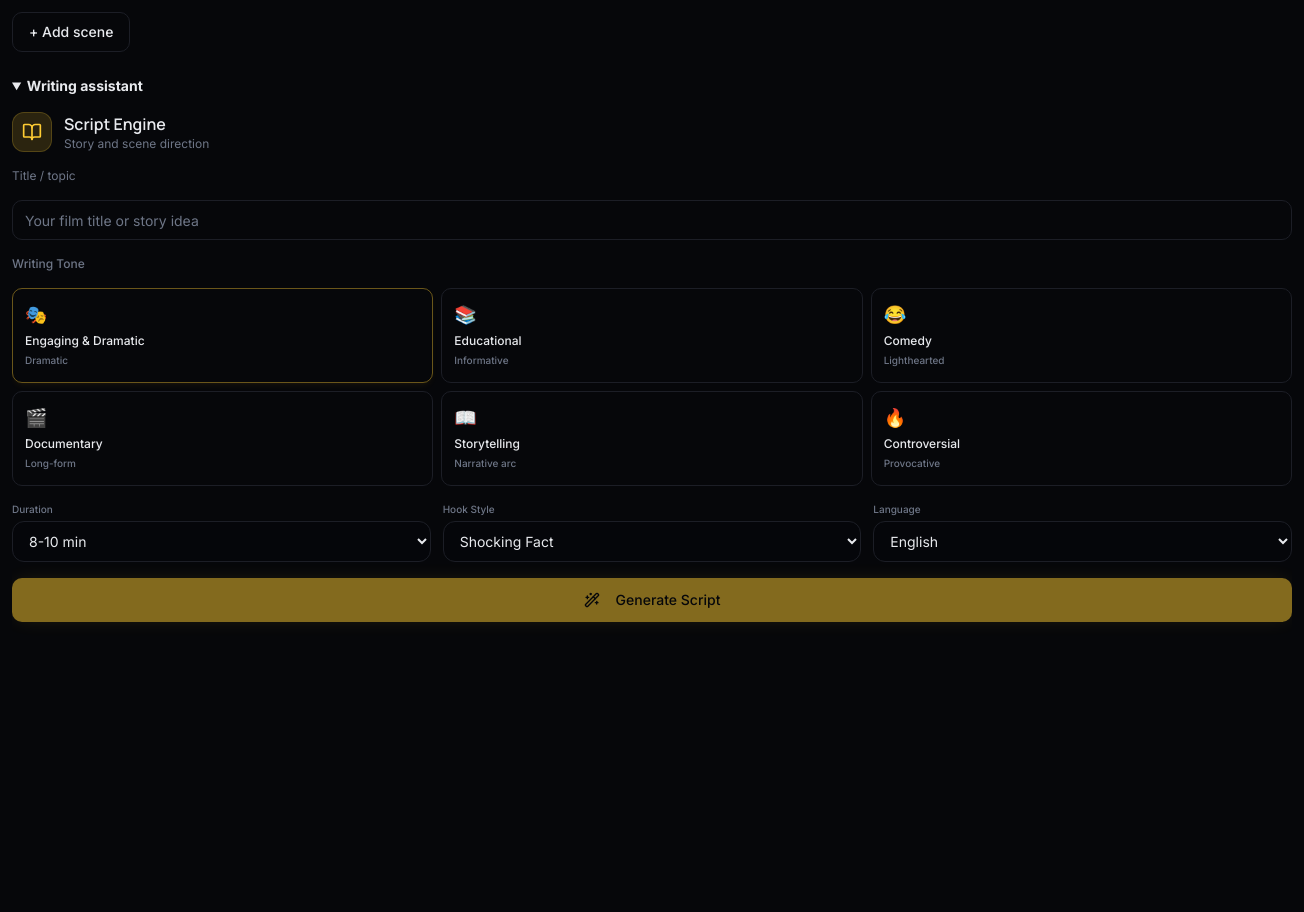
Test case: sends the trimmed topic and saves returned script sections
Type "  How rain forms  " into the field labelled "Title / topic" at (652, 220), box [12, 200, 1292, 240]
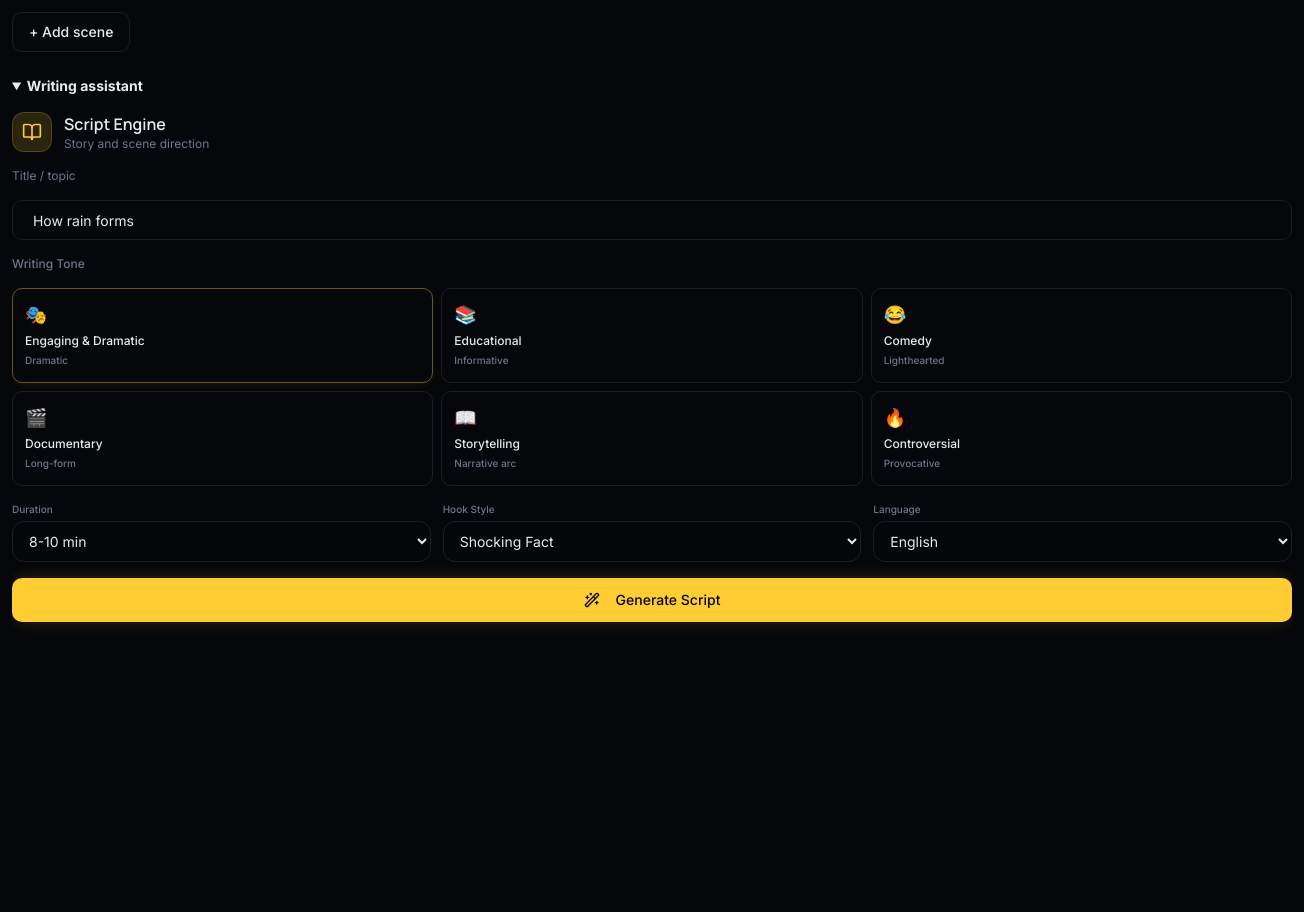
Click the button "Generate Script" at (652, 600), box [12, 578, 1292, 622]
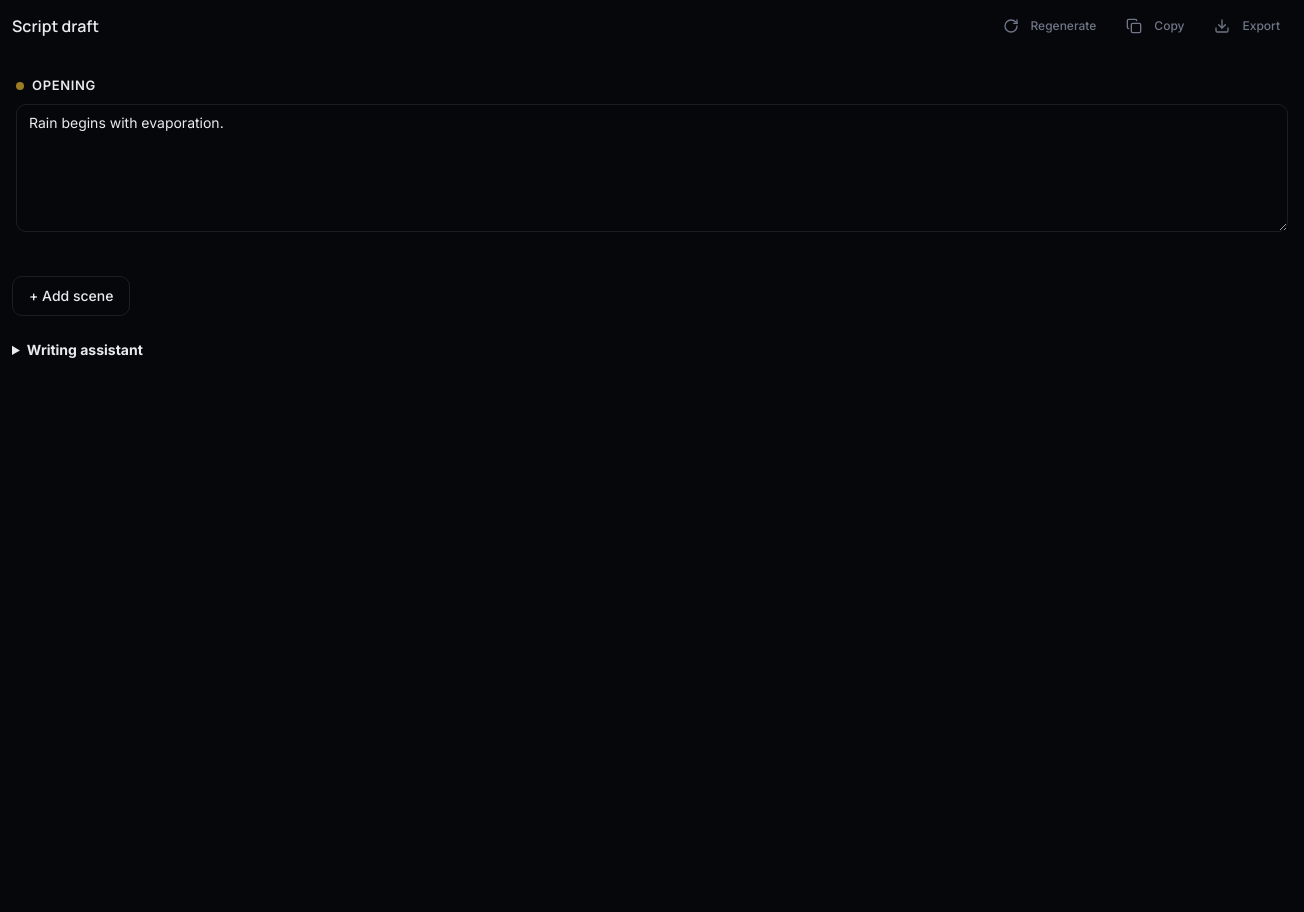
Expected: the text box named "Script section 1" holds "Rain begins with evaporation.", [16, 104, 1288, 232]
